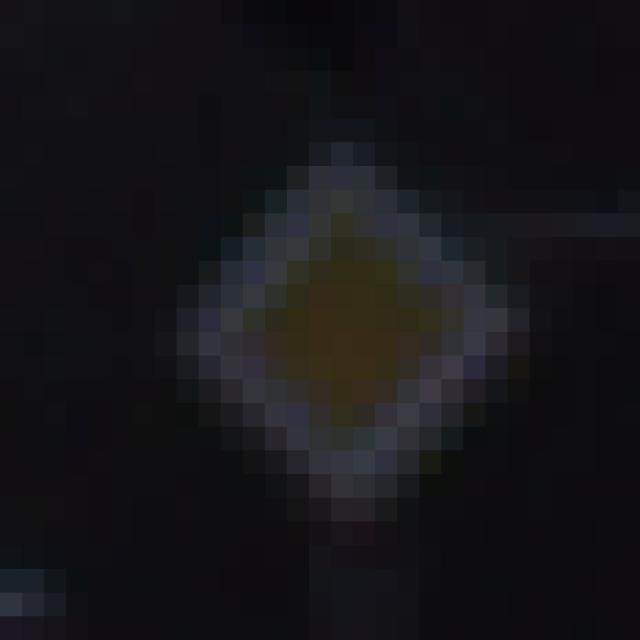Main Road: (134, 120, 531, 523)
